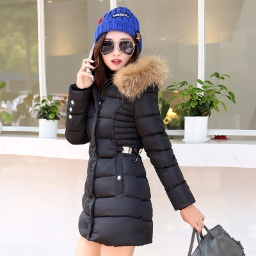face: (86, 26, 145, 84)
